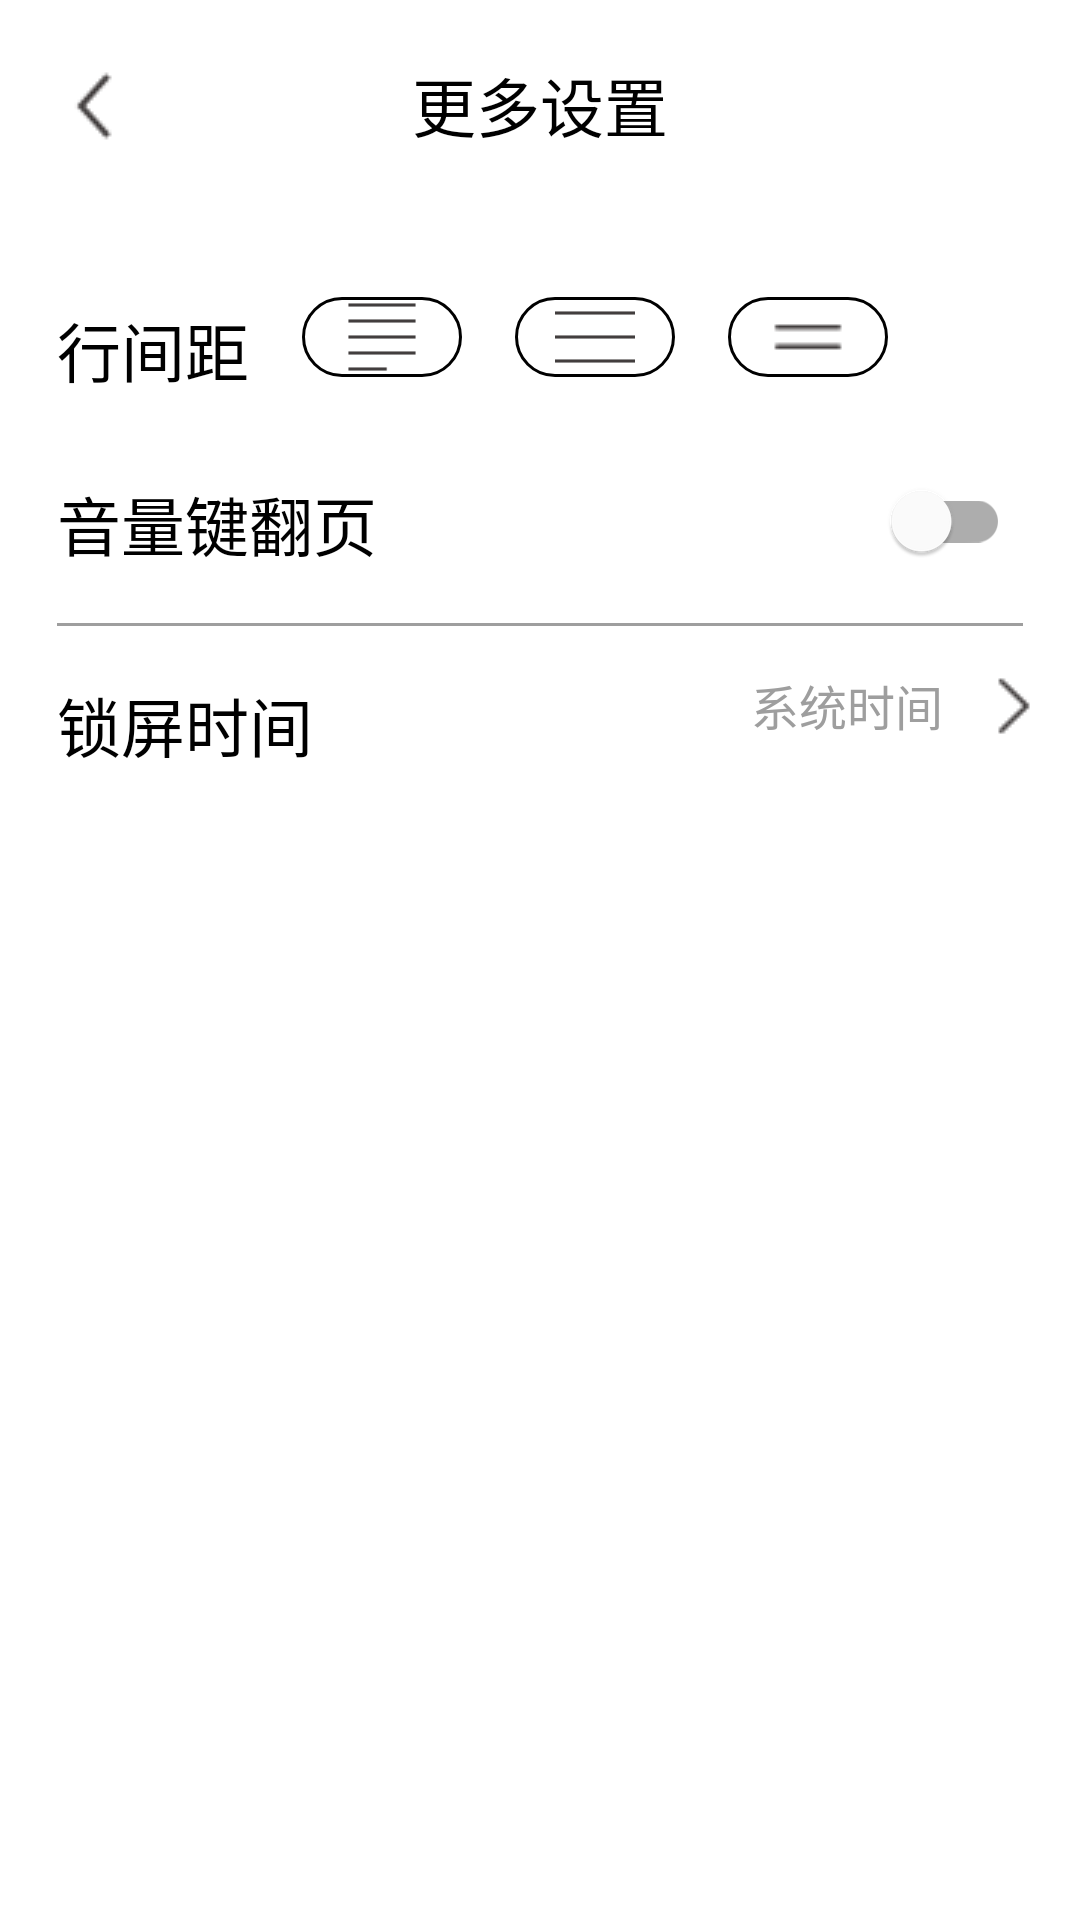

Locate icon controls on the screen. Image size 1080×1920, boxes as [x1,y1,x2,y2].
back: [77,73,112,139]
grip lines: [728,297,888,377]
lines: [515,297,675,377]
multiline: [302,297,462,377]
right: [998,678,1030,734]
